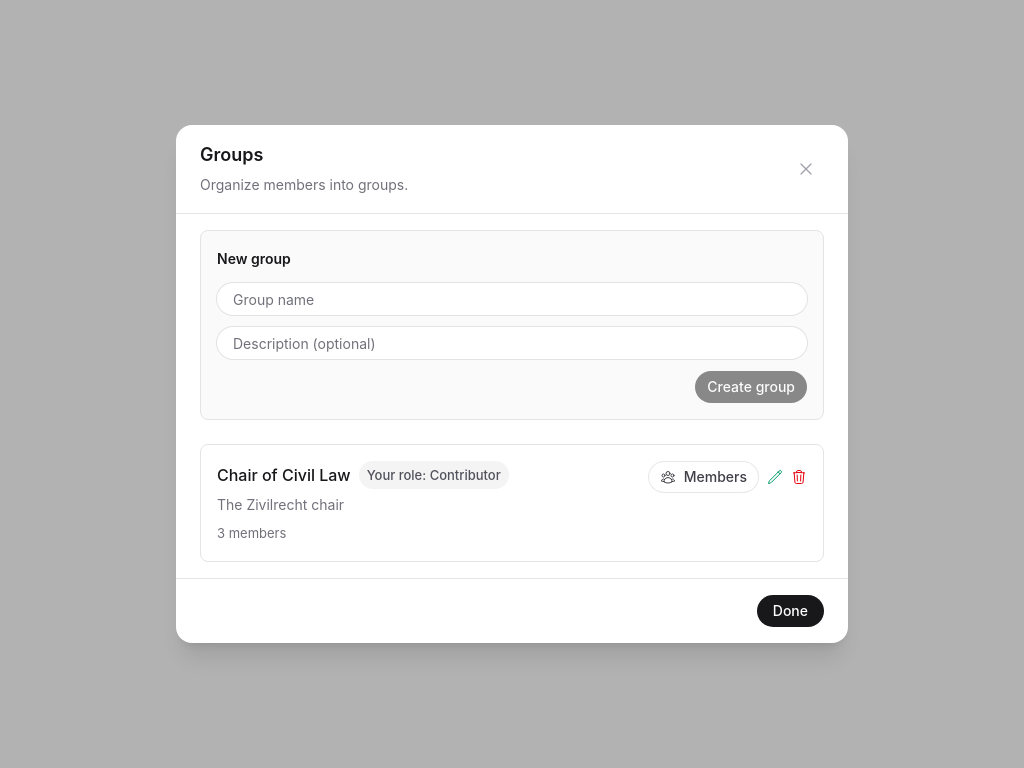
Test case: OrgGroups › delete group › deletes and refreshes on success
Click the button with test id "group-delete-grp-1": (799, 477) [791, 469, 807, 485]
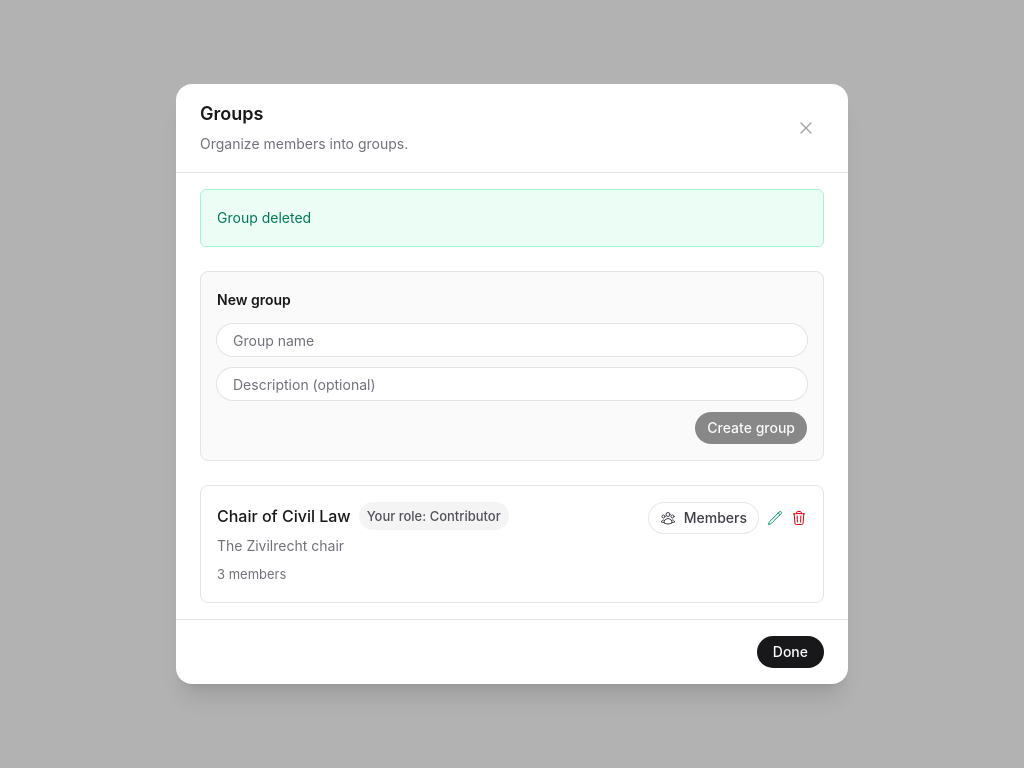
expect the text "Group deleted" is shown: met, box [200, 189, 824, 247]
